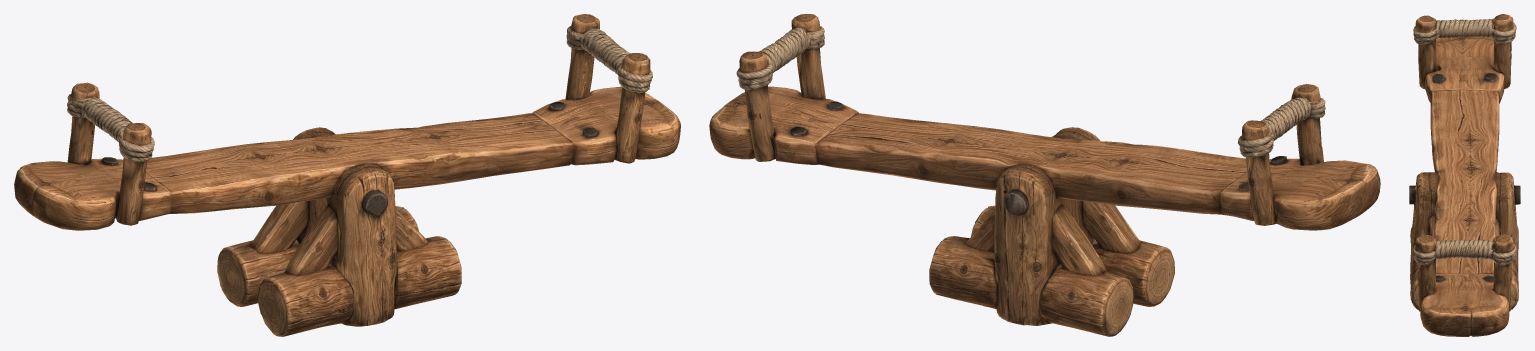
File: tahterevalli.glb
3 views of the same model, side by side, from view 1: azimuth 30°, elevation 25°; view 2: azimuth 150°, elevation 25°; view 3: azimuth 270°, elevation 25° (orthographic). The views are drawn at different scales.
Size of the model in its own units: 1.9 by 0.7093 by 0.3891.
Materials: 1 (1 with a texture image).
